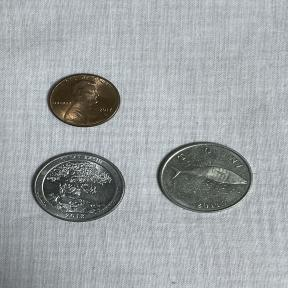Croatia-2Kune-B: (153, 139, 259, 217)
US-1cent-B: (40, 66, 129, 133)
US-25cent-B: (26, 147, 132, 227)
